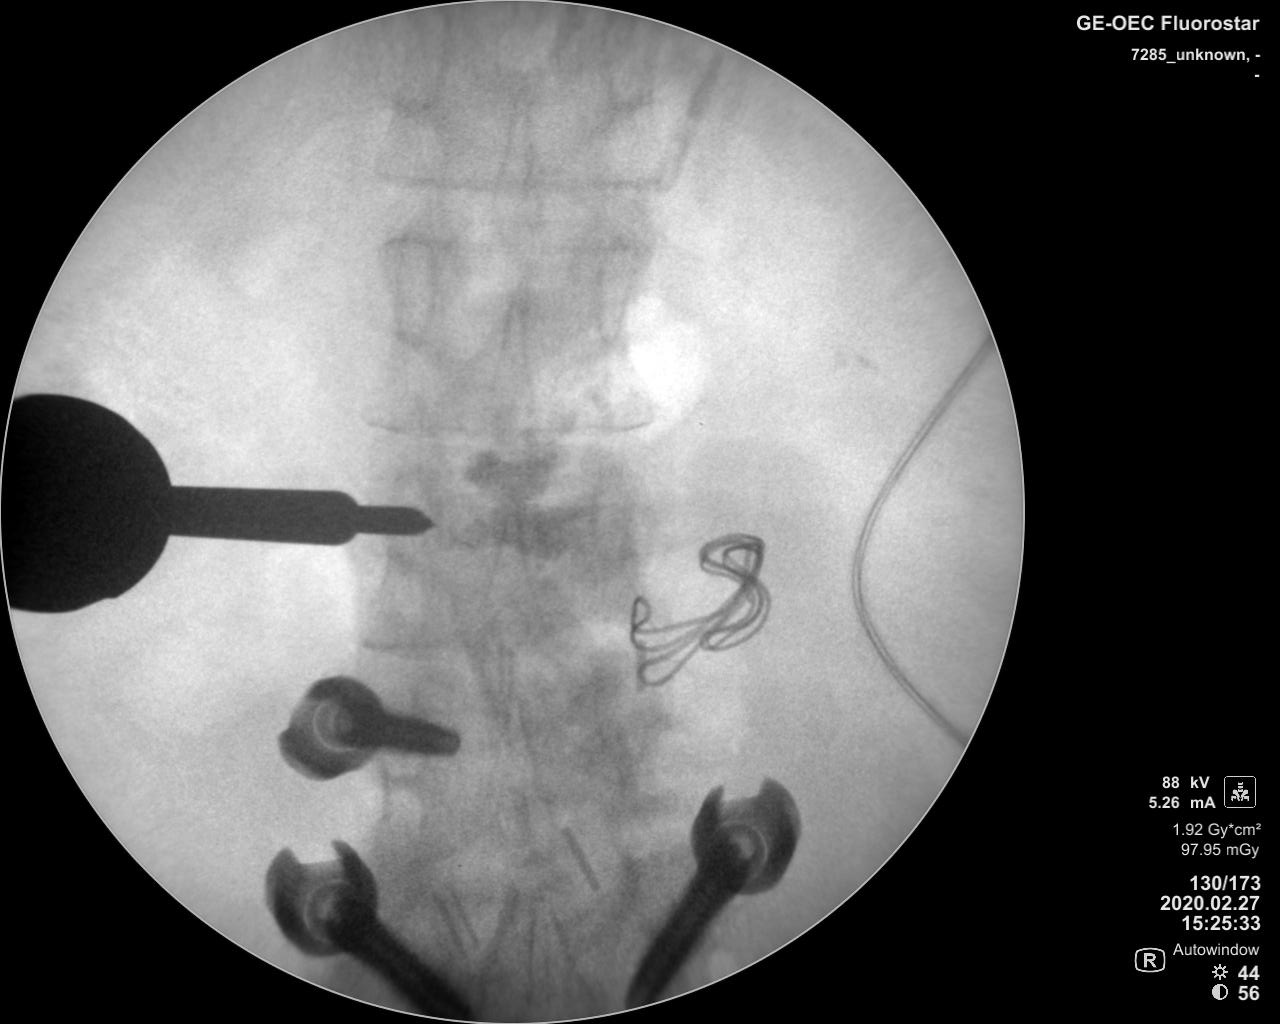eyes: (385, 13, 446, 117), (389, 234, 439, 351), (383, 470, 442, 566), (600, 14, 658, 109), (595, 238, 638, 347), (589, 471, 629, 564)
line: (362, 162, 682, 197), (356, 410, 661, 439), (374, 234, 657, 261)
nose: (478, 508, 545, 662), (484, 288, 538, 448), (490, 95, 545, 239), (495, 696, 538, 806)
